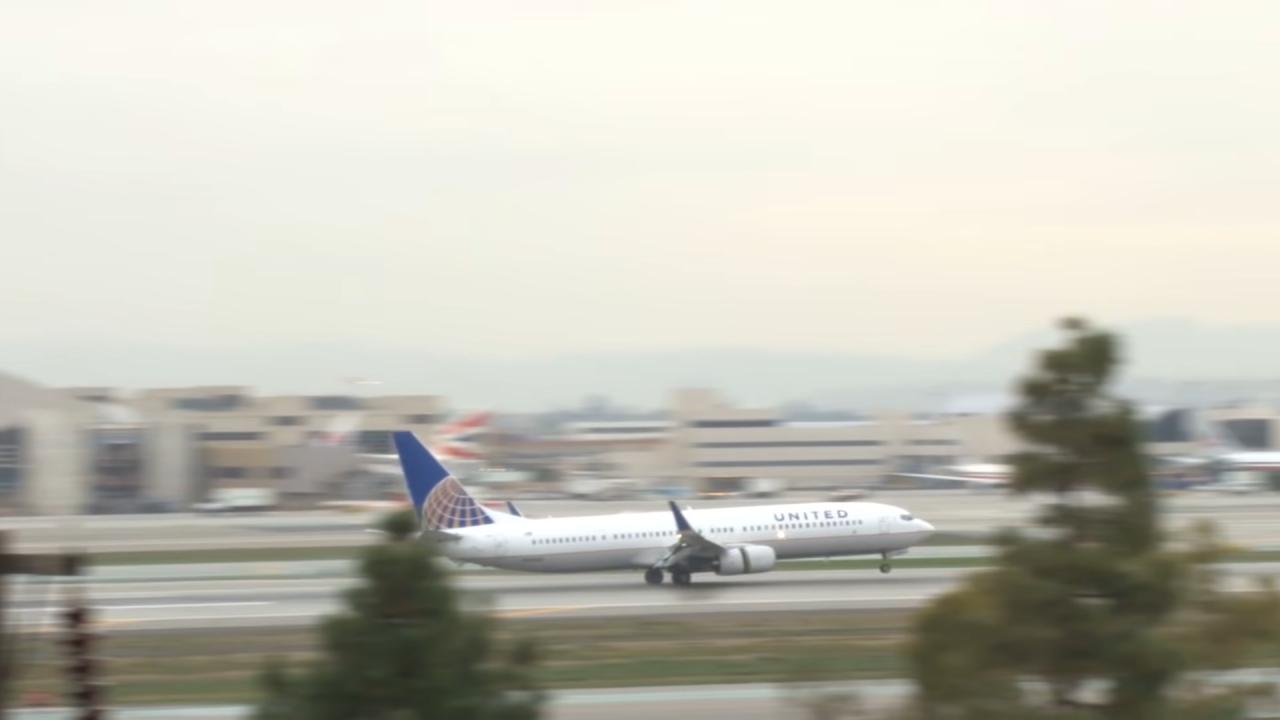Airplane: (375, 415, 949, 608)
